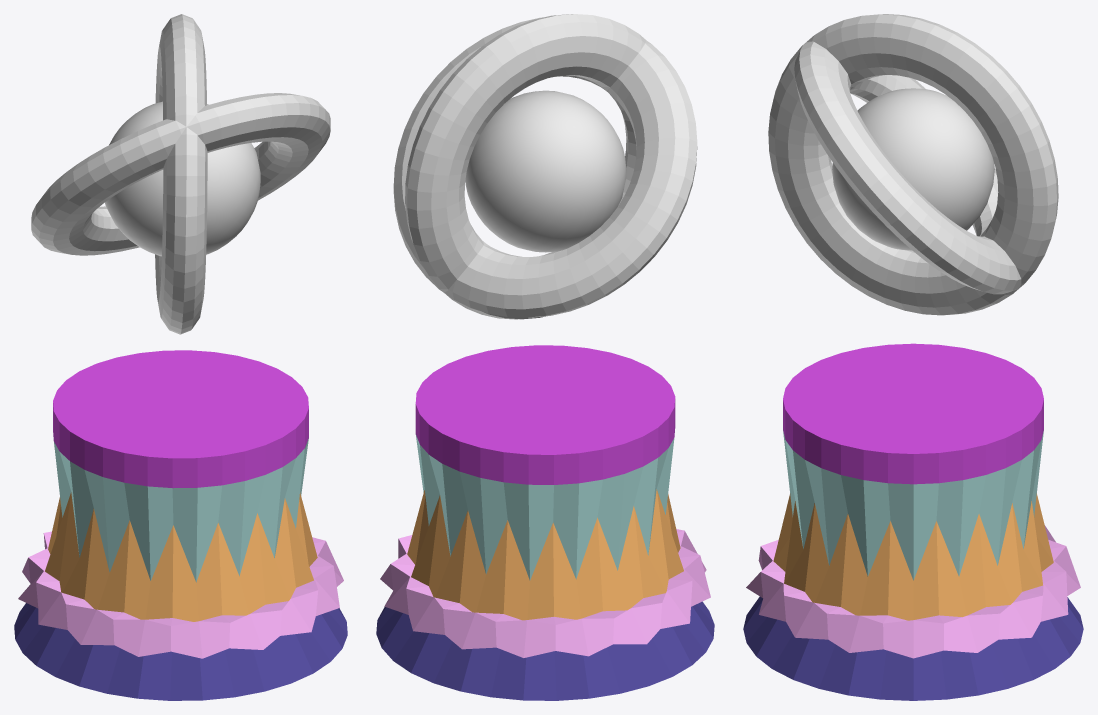
Rendered from towerBase.fbx.
3 renders of one model, left to right at view 1: azimuth 30°, elevation 25°; view 2: azimuth 150°, elevation 25°; view 3: azimuth 270°, elevation 25°, orthographic.
Visible parts, largest first — view 1: Cylinder, Torus.001, Torus, Sphere; view 2: Cylinder, Torus.001, Torus, Sphere; view 3: Cylinder, Torus, Torus.001, Sphere.
Part boxes in pixels (x1,y1,x2,y2): Cylinder: (14,350,347,700); Torus.001: (31,93,330,255); Torus: (155,14,207,334); Sphere: (105,101,260,256); Cylinder: (376,345,714,700); Torus.001: (393,17,697,317); Torus: (405,14,646,319); Sphere: (465,90,626,252); Cylinder: (743,343,1083,700); Torus: (768,14,1058,315); Torus.001: (794,41,1021,294); Sphere: (832,88,994,250).
Bounding box in the file's own units: 261 × 517 × 261.
